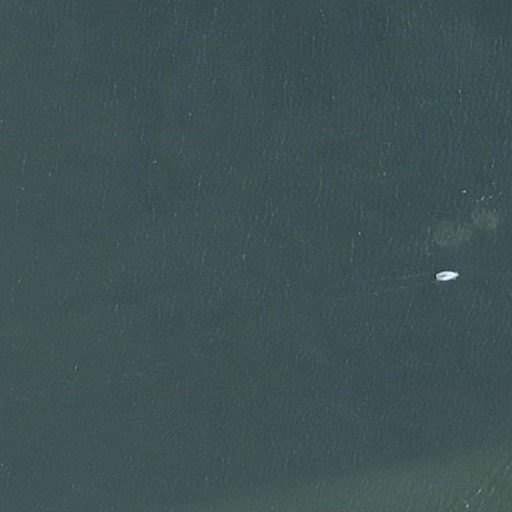ship: (432, 268, 461, 284)
